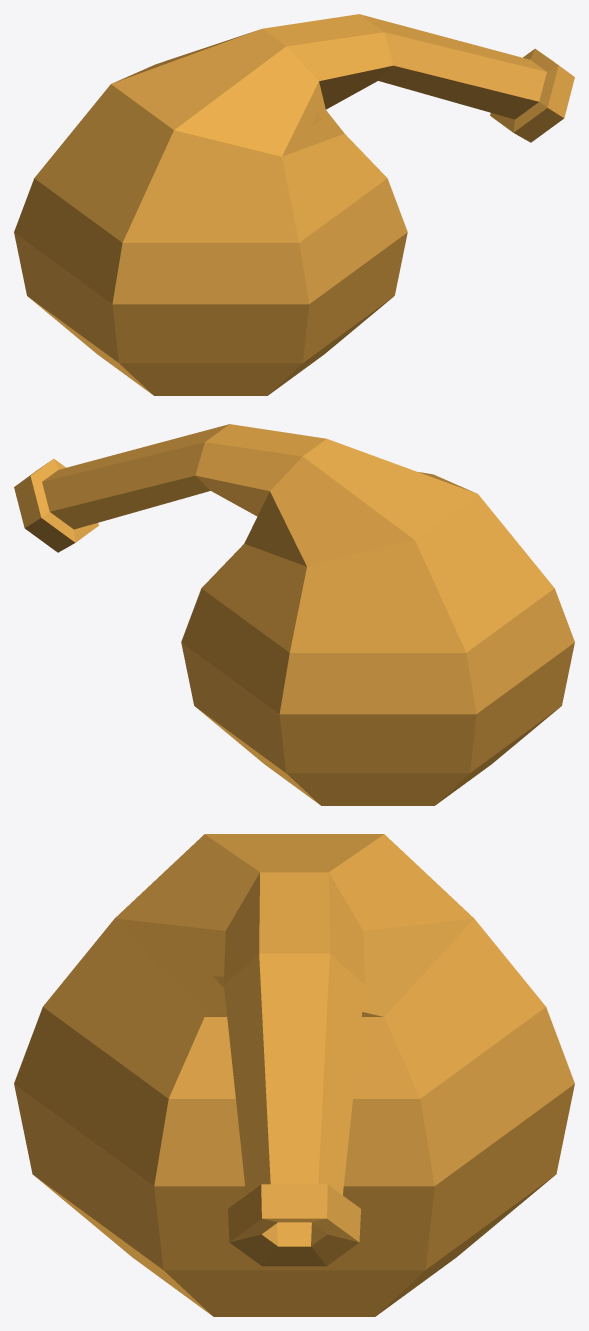
Rendered from SM_Bottle_Alchemy_G_Full.fbx.
3 views of the same model, one above another, from view 1: azimuth 30°, elevation 25°; view 2: azimuth 150°, elevation 25°; view 3: azimuth 270°, elevation 25° (orthographic). The views are drawn at different scales.
Visible parts, largest first — view 1: bottle-alchemy-g-full; view 2: bottle-alchemy-g-full; view 3: bottle-alchemy-g-full.
Boxes of the visible parts, left/top/right/bottom form: bottle-alchemy-g-full: left=14, top=14, right=574, bottom=395; bottle-alchemy-g-full: left=14, top=424, right=574, bottom=805; bottle-alchemy-g-full: left=14, top=834, right=574, bottom=1316.
Size of the model in its own units: 0.2092 by 0.1203 by 0.1426.
